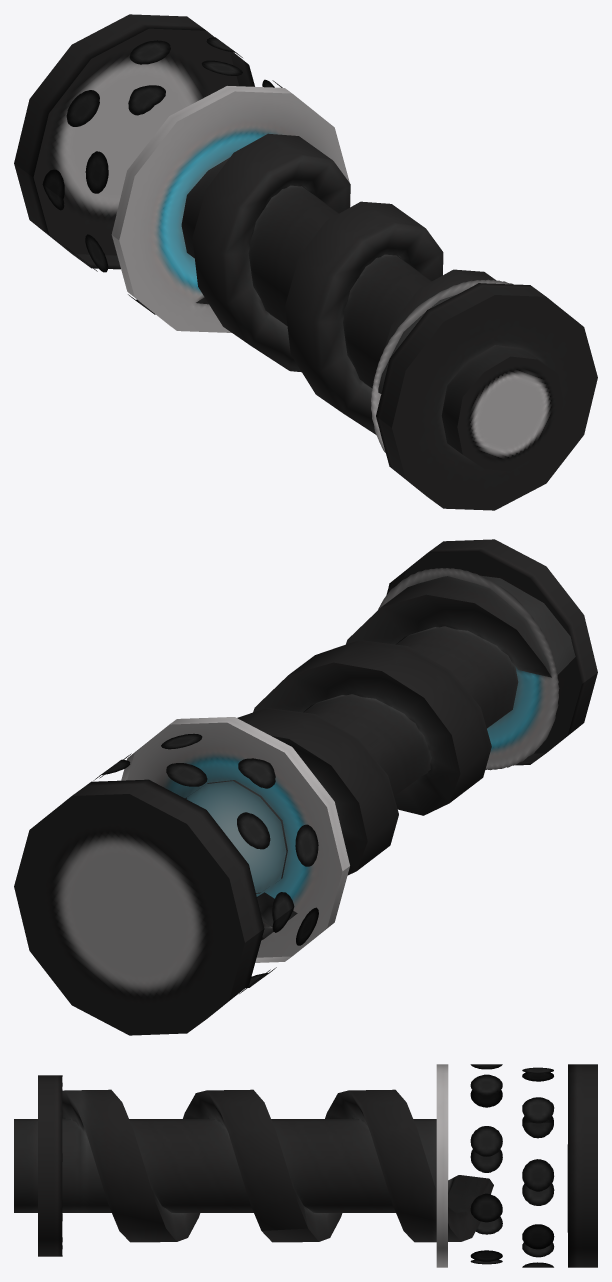
Rendered from obj_interactive_suspensionoffroad_04_off.fbx.
3 views of the same model, one above another, from view 1: azimuth 30°, elevation 25°; view 2: azimuth 150°, elevation 25°; view 3: azimuth 270°, elevation 25° (orthographic). The views are drawn at different scales.
Visible parts, largest first — view 1: obj_interactive_suspensionoffroad_04_off; view 2: obj_interactive_suspensionoffroad_04_off; view 3: obj_interactive_suspensionoffroad_04_off.
Part boxes in pixels (bbox=[...]): obj_interactive_suspensionoffroad_04_off: bbox=[14, 14, 597, 510]; obj_interactive_suspensionoffroad_04_off: bbox=[14, 539, 597, 1035]; obj_interactive_suspensionoffroad_04_off: bbox=[14, 1064, 597, 1267].
Bounding box in the file's own units: 1.09 × 1.09 × 3.13.
